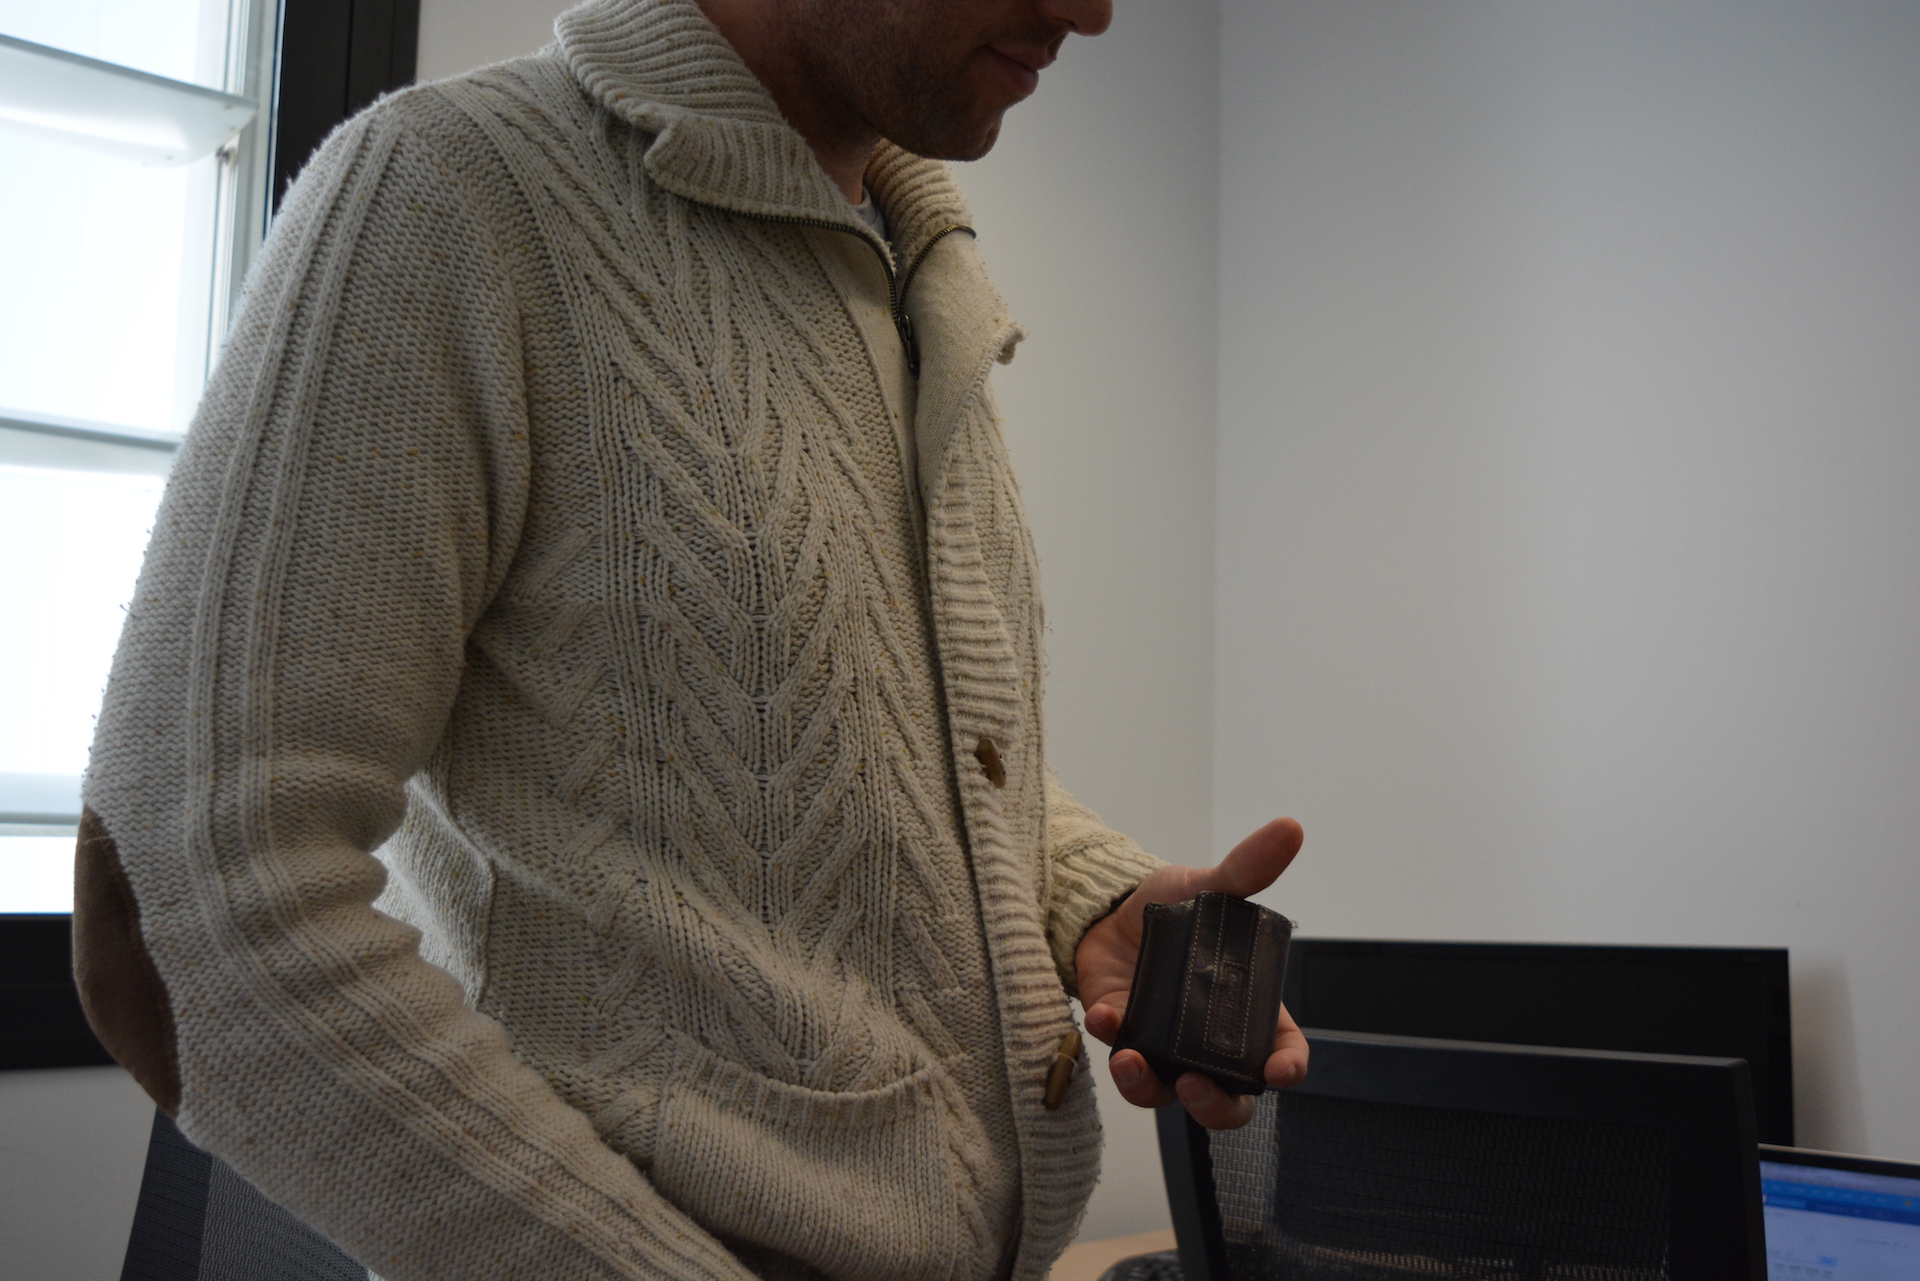monedero: (1107, 888, 1294, 1097)
